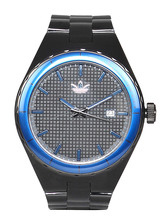watch: (12, 13, 161, 213)
